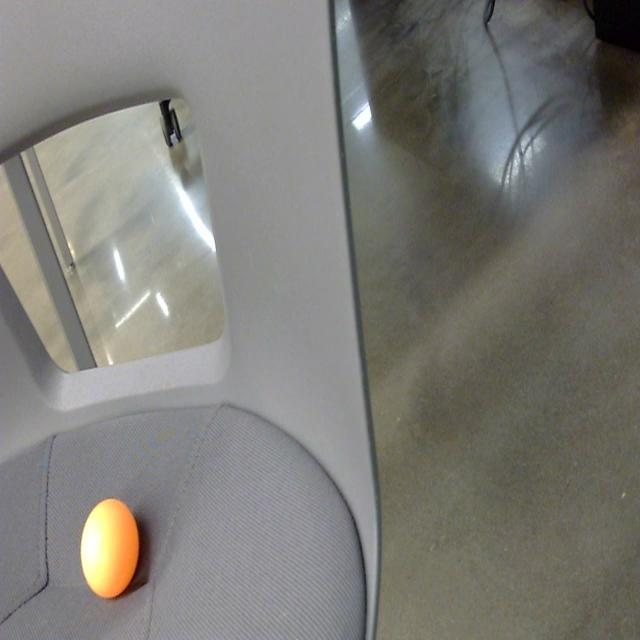ball: (79, 495, 143, 602)
